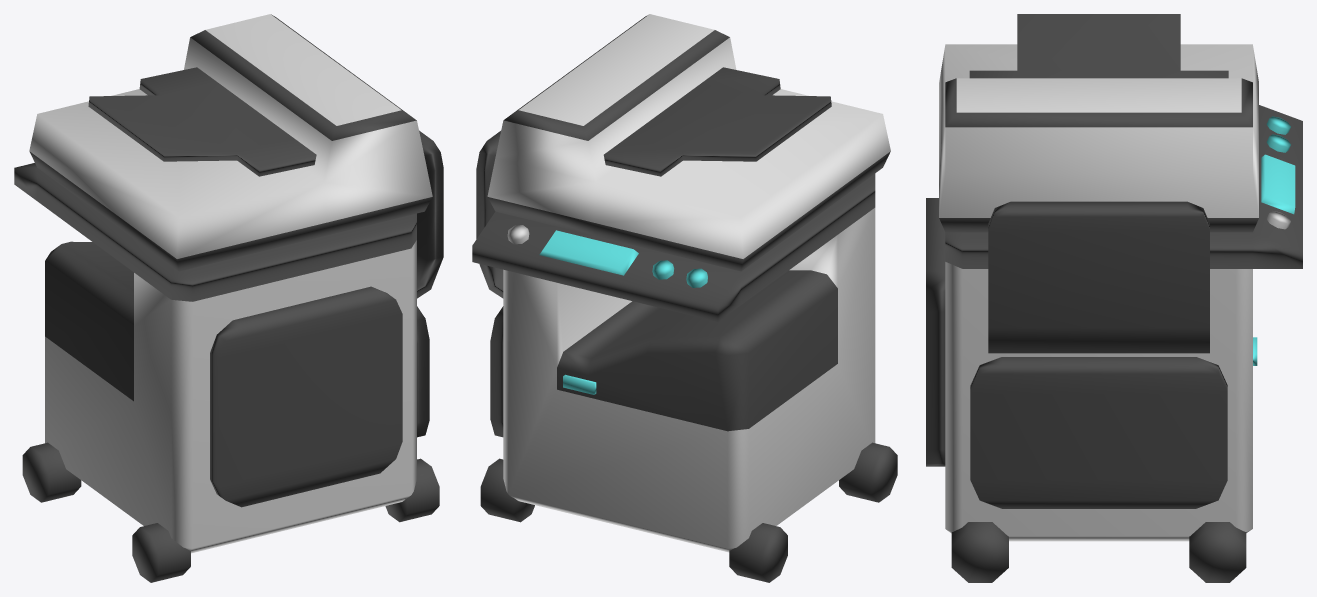
The model's file is mesh_printer_02.fbx.
3 renders of one model, left to right at view 1: azimuth 30°, elevation 25°; view 2: azimuth 150°, elevation 25°; view 3: azimuth 270°, elevation 25°, orthographic. The views are drawn at different scales.
Visible parts, largest first — view 1: mesh_printer_01; view 2: mesh_printer_01; view 3: mesh_printer_01.
Boxes of the visible parts, <box> form: mesh_printer_01: <box>14,14,443,582</box>; mesh_printer_01: <box>472,14,897,582</box>; mesh_printer_01: <box>926,14,1302,582</box>.
Bounding box in the file's own units: 25.45 × 33.56 × 25.37.
